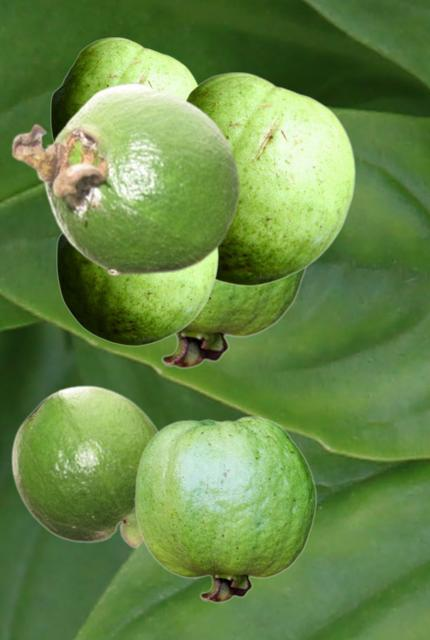guava: (10, 81, 240, 275), (186, 72, 354, 285), (134, 416, 316, 602), (10, 384, 158, 548), (56, 233, 217, 345), (50, 37, 197, 140), (158, 268, 308, 368)
